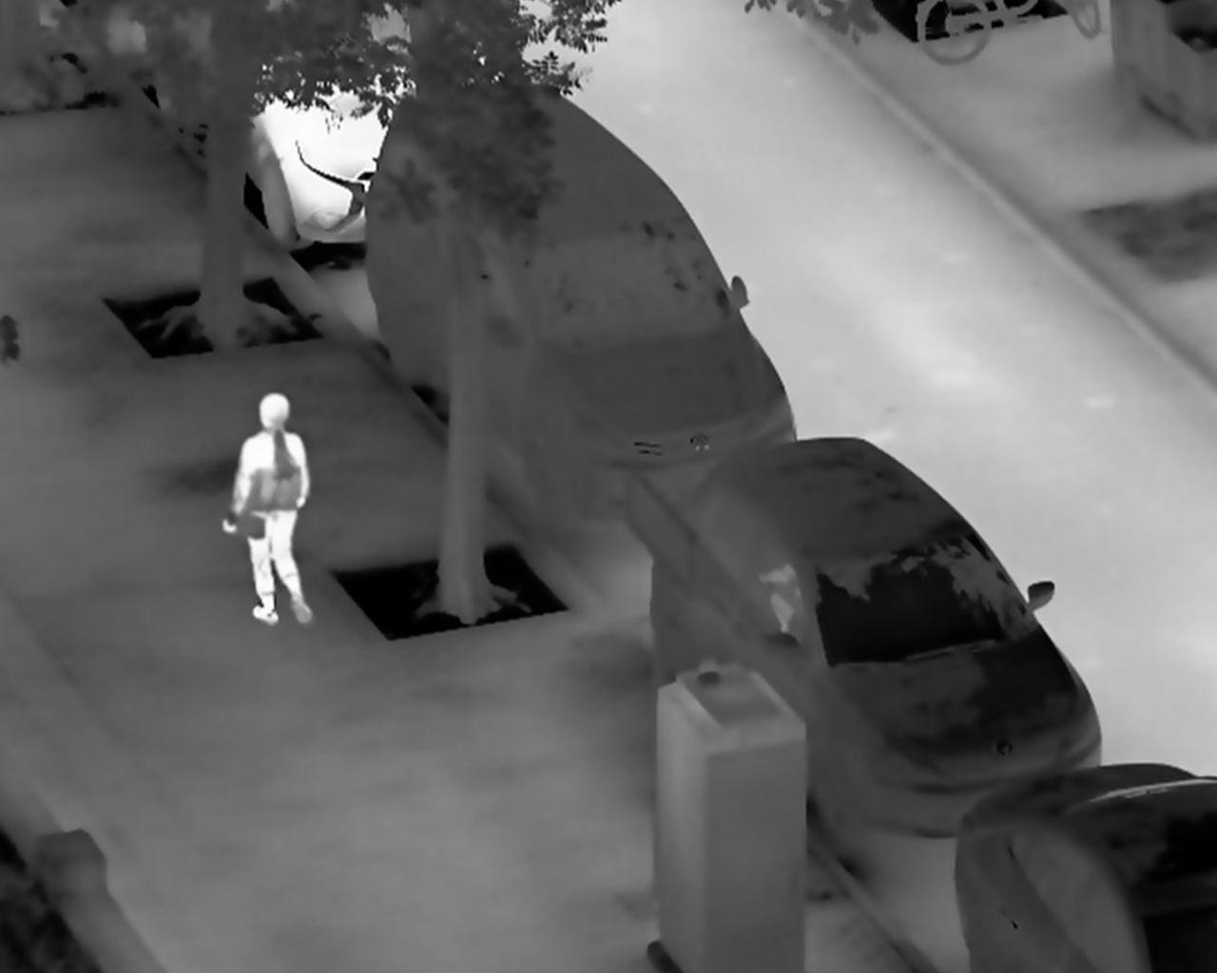person: (221, 391, 315, 632)
